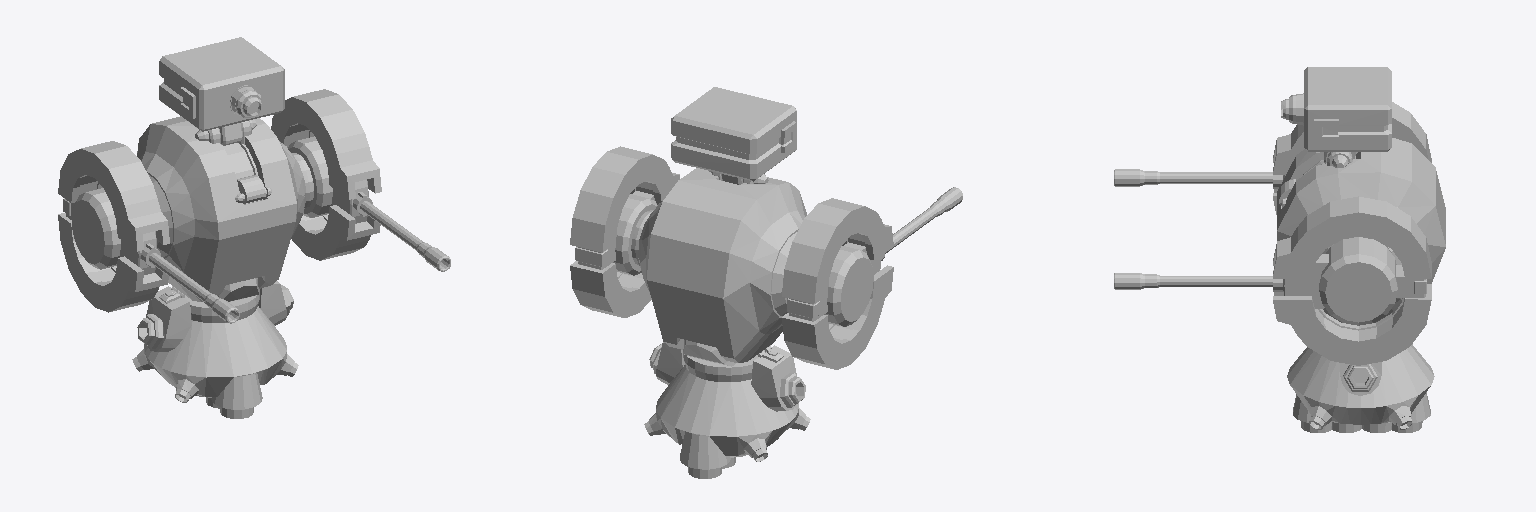
Rendered from Bot.obj.
3 renders of one model, left to right at view 1: azimuth 30°, elevation 25°; view 2: azimuth 150°, elevation 25°; view 3: azimuth 270°, elevation 25°, orthographic.
Parts seen in each view (by area): view 1: Vert.041, Vert.036, Vert.037, Vert.042, Vert.040, Cylinder.024, Vert.039; view 2: Vert.041, Vert.036, Vert.037, Vert.042, Vert.040, Cylinder.024, Vert.039; view 3: Vert.037, Vert.041, Vert.040, Vert.042, Vert.036, Cylinder.023, Cylinder.024.
Part boxes in pixels (bbox=[...]): Vert.041: bbox=[137, 116, 305, 351]; Vert.036: bbox=[58, 141, 239, 323]; Vert.037: bbox=[271, 89, 450, 271]; Vert.042: bbox=[132, 286, 298, 402]; Vert.040: bbox=[159, 37, 284, 131]; Cylinder.024: bbox=[208, 373, 262, 409]; Vert.039: bbox=[204, 278, 258, 303]; Vert.041: bbox=[638, 168, 806, 411]; Vert.036: bbox=[782, 187, 962, 369]; Vert.037: bbox=[570, 146, 679, 317]; Vert.042: bbox=[644, 345, 810, 461]; Vert.040: bbox=[671, 87, 796, 181]; Cylinder.024: bbox=[680, 431, 735, 469]; Vert.039: bbox=[683, 340, 735, 366]; Vert.037: bbox=[1114, 196, 1431, 365]; Vert.041: bbox=[1277, 138, 1445, 395]; Vert.040: bbox=[1281, 67, 1391, 151]; Vert.042: bbox=[1287, 344, 1434, 429]; Vert.036: bbox=[1114, 102, 1431, 214]; Cylinder.023: bbox=[1301, 421, 1422, 432]; Cylinder.024: bbox=[1293, 392, 1430, 422].
Size of the model in its own units: 542 by 686 by 608.